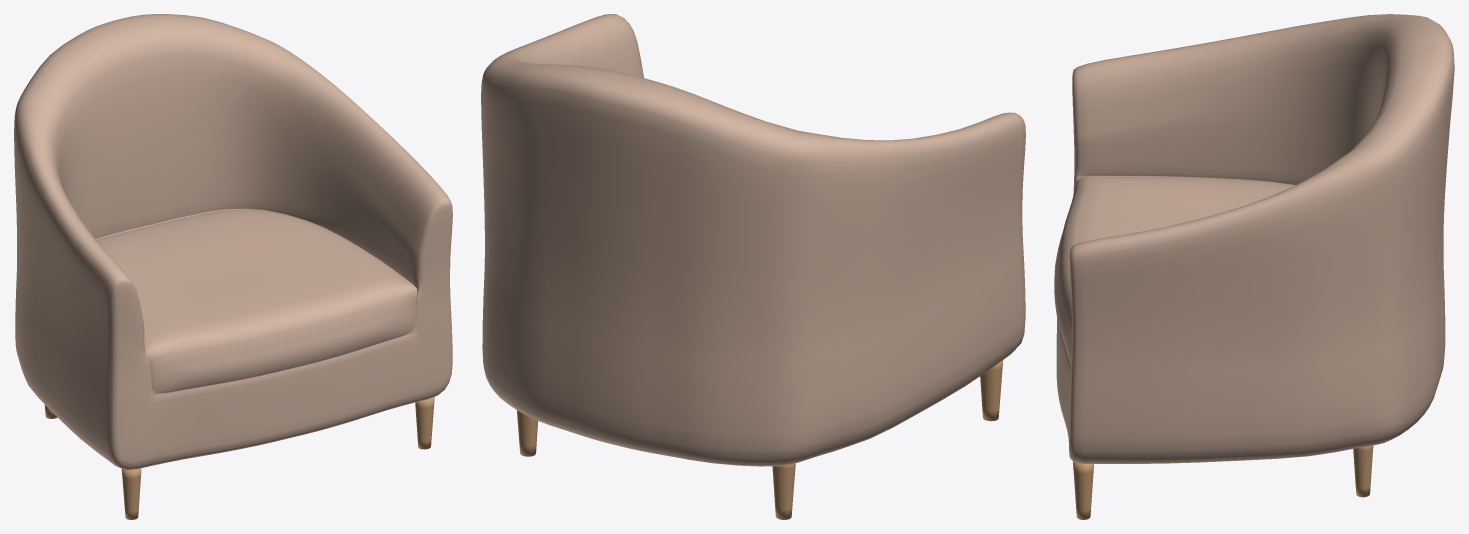
File: sofa1#15.fbx
3 views of the same model, side by side, from view 1: azimuth 30°, elevation 25°; view 2: azimuth 150°, elevation 25°; view 3: azimuth 270°, elevation 25° (orthographic). The views are drawn at different scales.
Parts seen in each view (by area): view 1: Loft02, Object01; view 2: Loft02, Object01; view 3: Loft02, Object01.
Part boxes in pixels (<box>): Loft02: <box>14,14,452,470</box>; Object01: <box>44,397,434,519</box>; Loft02: <box>481,14,1025,466</box>; Object01: <box>517,360,1003,519</box>; Loft02: <box>1054,14,1454,463</box>; Object01: <box>1073,445,1373,519</box>.
Size of the model in its own units: 1.99 by 1.92 by 1.78.
